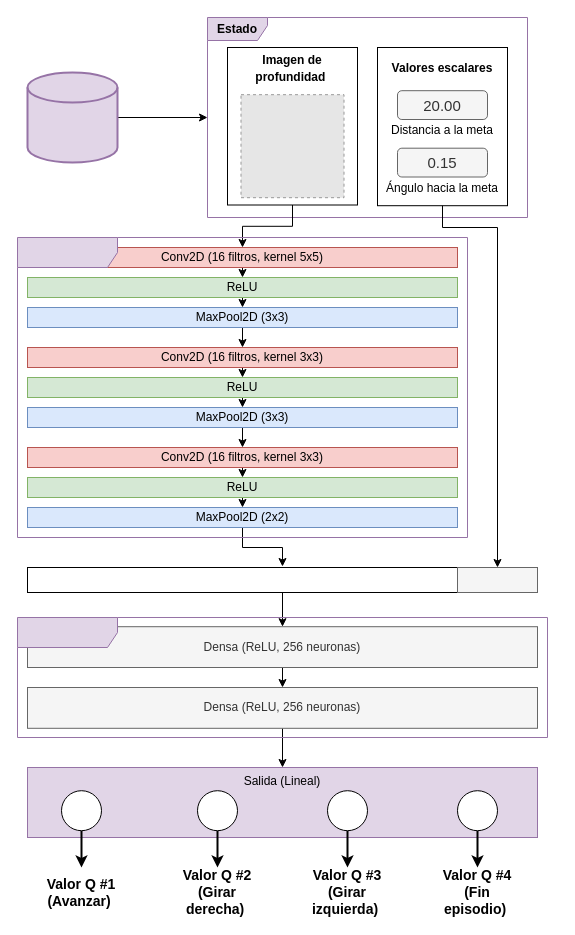
This 575x935 diagram has some shape labels left out. Grey dashed boxes stand in for pictures. Each missing label, with the centre of its shape:
Convolución: pixel 242 387
Densa: pixel 282 677
Flatten: pixel 242 579
Muestra del Experience Replay: pixel 72 117
SAL 1: pixel 81 810
SAL 2: pixel 217 810
SAL 3: pixel 347 810
SAL 4: pixel 477 810
